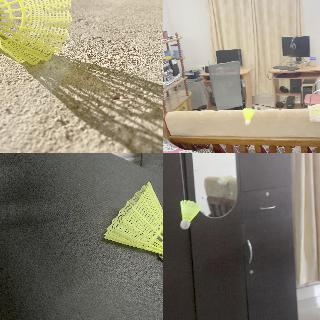shuttlecock: (103, 181, 162, 266), (0, 0, 71, 65), (180, 200, 200, 228), (242, 108, 254, 124)
